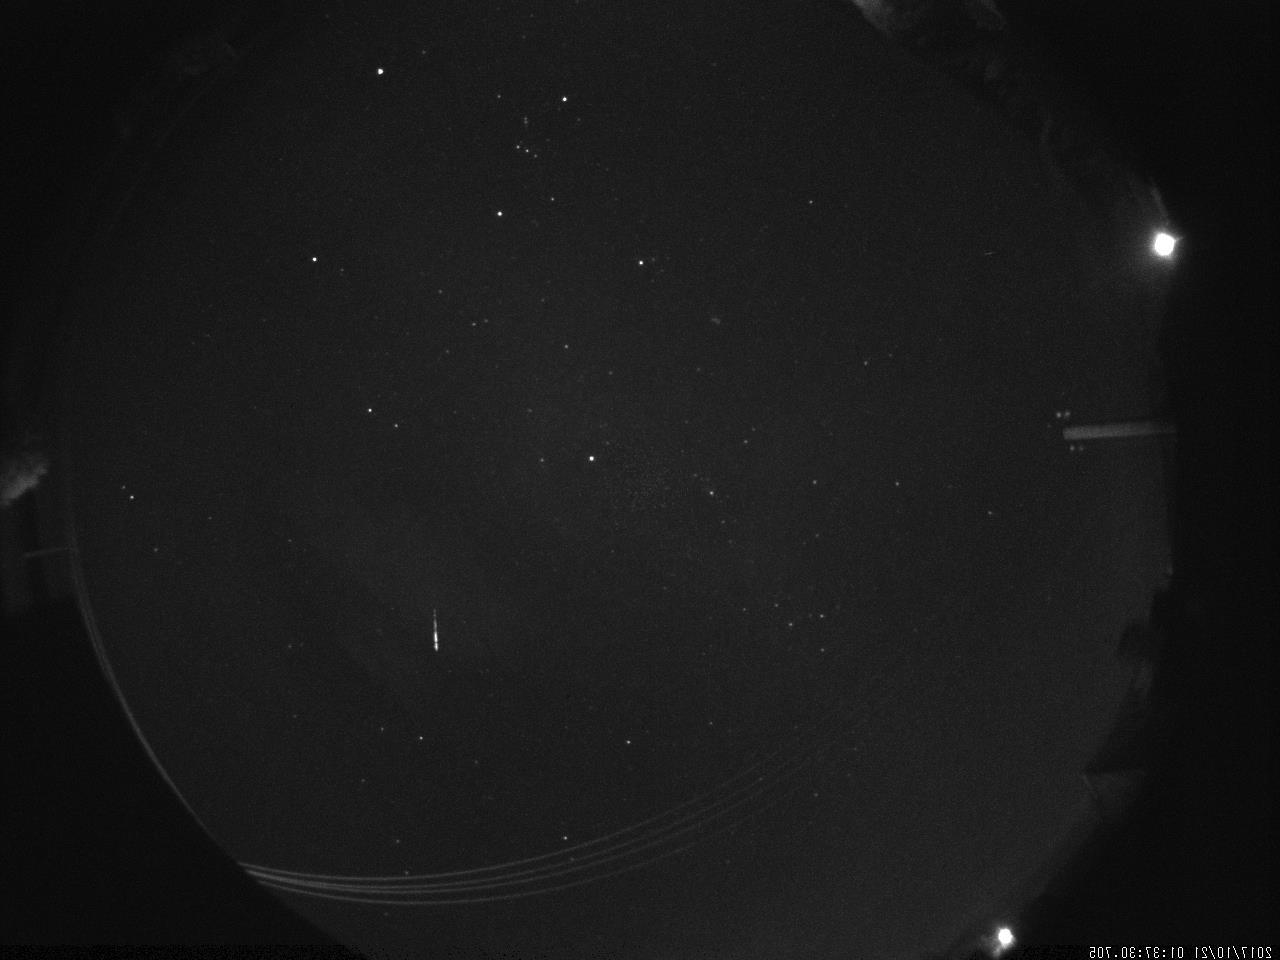meteor: (423, 603, 446, 657)
